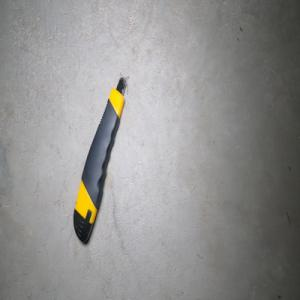Cutter: (72, 75, 127, 243)
